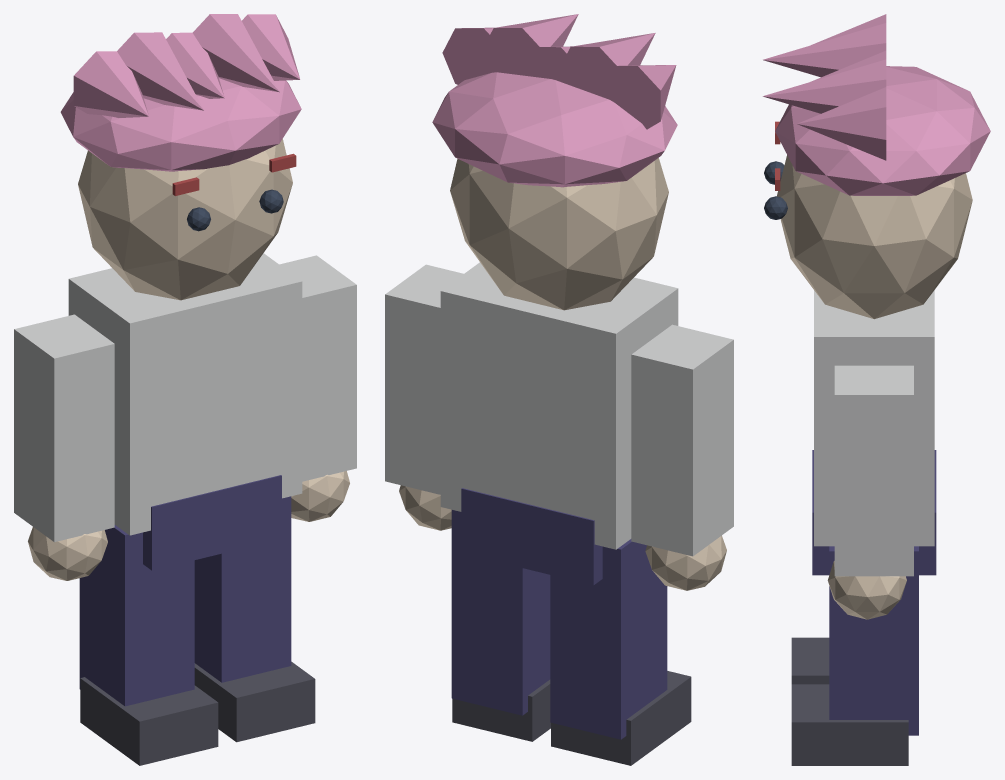
File: sukuna.glb
3 views of the same model, side by side, from view 1: azimuth 30°, elevation 25°; view 2: azimuth 150°, elevation 25°; view 3: azimuth 270°, elevation 25° (orthographic). The views are drawn at different scales.
Parts seen in each view (by area): view 1: part_000, part_010, part_002, part_004, part_013, part_008, part_006, part_001, part_005, part_009, part_014, part_015 (+5 smaller); view 2: part_000, part_010, part_002, part_013, part_004, part_008, part_006, part_001, part_005, part_015, part_014, part_017 (+5 smaller); view 3: part_010, part_006, part_013, part_000, part_008, part_009, part_018, part_015, part_017, part_007, part_005, part_001 (+1 smaller).
Boxes of the visible parts, x1,y1,x2,y2 form: part_000: (68, 253, 302, 535); part_010: (78, 139, 292, 300); part_002: (14, 314, 114, 542); part_004: (79, 525, 194, 706); part_013: (60, 78, 301, 171); part_008: (194, 496, 291, 682); part_006: (279, 255, 356, 481); part_001: (143, 475, 281, 570); part_005: (80, 677, 218, 765); part_009: (194, 661, 315, 742); part_014: (73, 51, 148, 117); part_015: (117, 32, 203, 110); part_000: (440, 262, 678, 549); part_010: (450, 158, 668, 310); part_002: (631, 324, 733, 556); part_013: (432, 72, 677, 187); part_004: (550, 539, 667, 739); part_008: (451, 510, 550, 715); part_006: (385, 264, 463, 494); part_001: (461, 488, 602, 585); part_005: (551, 671, 691, 765); part_015: (558, 33, 655, 103); part_014: (596, 65, 676, 129); part_017: (481, 14, 578, 77); part_010: (777, 155, 972, 319); part_006: (834, 365, 913, 576); part_013: (775, 66, 990, 195); part_000: (814, 290, 934, 546); part_008: (829, 546, 918, 735); part_009: (791, 684, 908, 765); part_018: (797, 87, 886, 160); part_015: (763, 23, 886, 77); part_017: (763, 59, 886, 113); part_007: (827, 561, 906, 619); part_005: (791, 637, 829, 684); part_001: (812, 450, 936, 575).
Bounding box in the file's own units: 1.03 × 2.17 × 0.6628.
